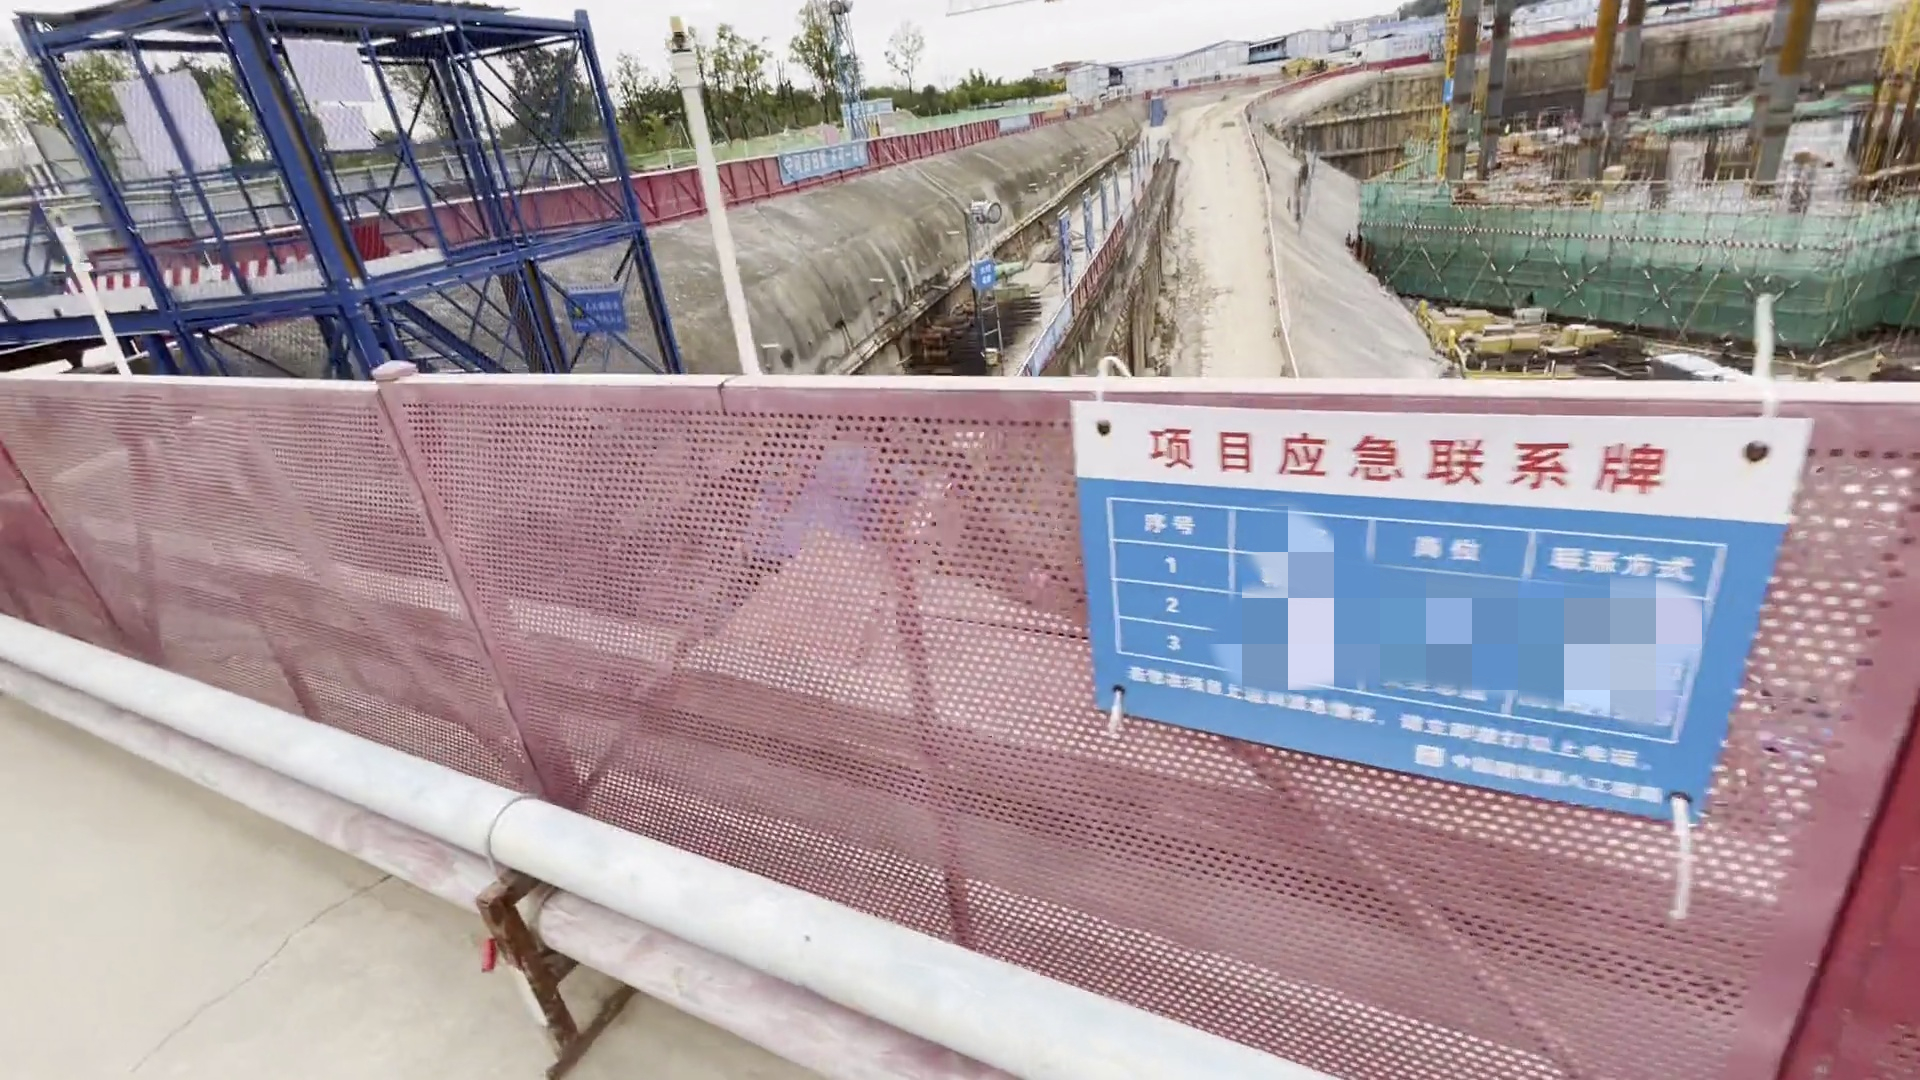fence: (32, 342, 1891, 1062), (501, 109, 1054, 232)
slogan: (1067, 384, 1780, 839), (556, 272, 637, 351), (773, 142, 877, 186), (835, 90, 899, 123)
